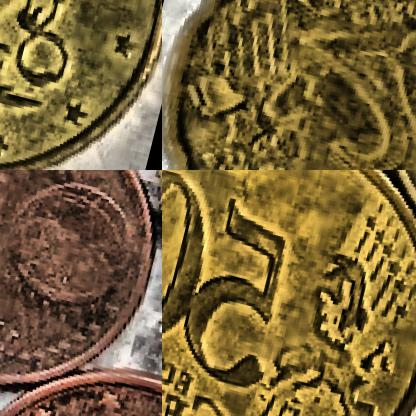coin: (162, 170, 415, 415), (162, 0, 415, 169), (0, 170, 161, 415), (0, 0, 161, 169)
